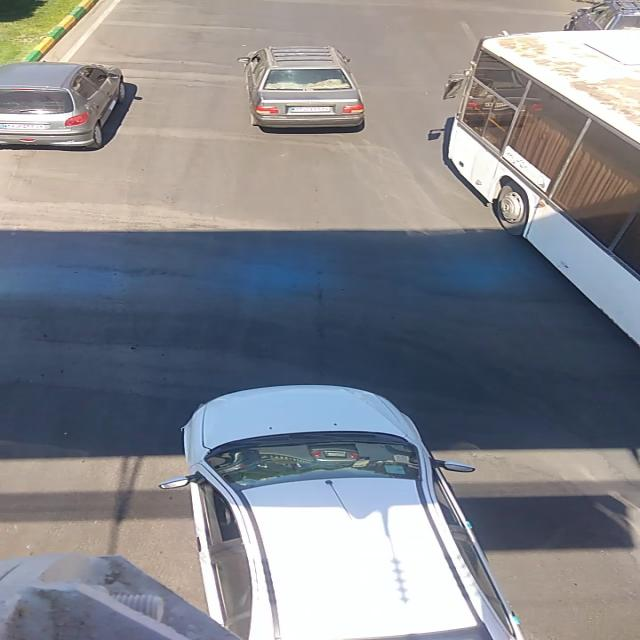bus: (445, 26, 639, 348)
car: (160, 385, 517, 638), (1, 62, 125, 148), (236, 48, 364, 128)
